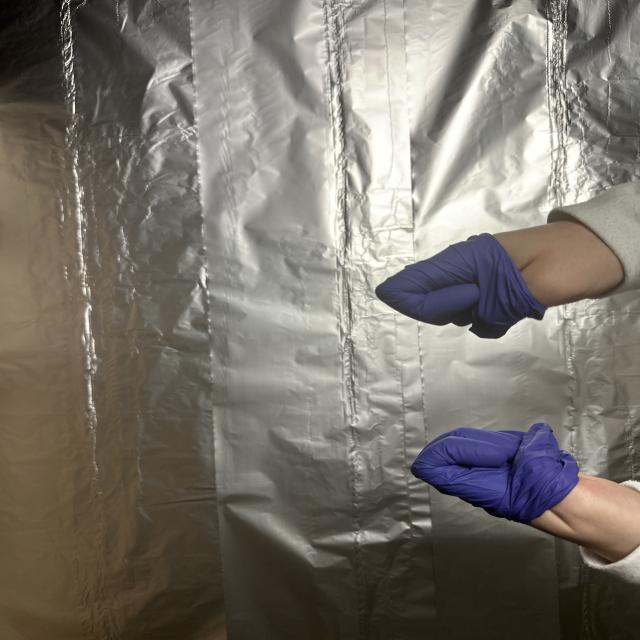glove_partial: (409, 424, 640, 562), (370, 221, 620, 340)
